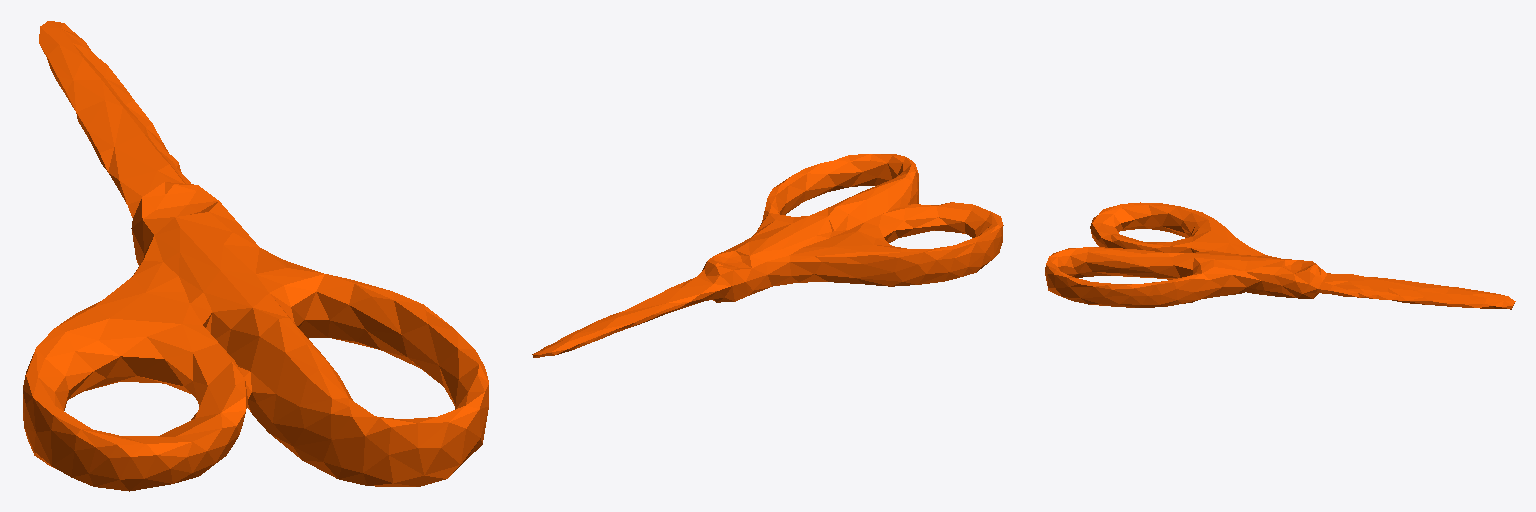
robot.urdf — 037_scissors:
<?xml version="1.0" ?>
<robot name="037_scissors">
   <material name="obj_color">
      <color rgba="1.0 0.423529411765 0.0392156862745 1.0"/>
   </material>
   <link name="top">
      <inertial>
         <origin rpy="3.018810183371814e-05 0.0001250608665715688 0.0001535135103798626" xyz="-0.002565661122281224 -0.004460871019042893 1.689275882520059e-05"/>
         <mass value="0.08626186684547055"/>
         <inertia ixx="0.0001160068860362054" ixy="-2.787791370943682e-05" ixz="-4.556739335207149e-07" iyy="3.924809970769981e-05" iyz="-5.508755592179248e-07" izz="0.0001535074930412443"/>
      </inertial>
      <visual>
         <origin rpy="0 0 0" xyz="0 0 0"/>
         <geometry>
            <mesh filename="top_watertight_tiny.stl" scale="1 1 1"/>
         </geometry>
         <material name="obj_color"/>
      </visual>
      <collision>
         <origin rpy="0 0 0" xyz="0 0 0"/>
         <geometry>
            <mesh filename="top_watertight_tiny.obj" scale="1 1 1"/>
         </geometry>
      </collision>
   </link>
   <link name="bottom">
      <inertial>
         <origin rpy="1.633333333199431e-08 1.633333333199431e-08 1.633333333362855e-08" xyz="0.3464080000000008 0.3464080000000008 0.3464080000000008"/>
         <mass value="0.0009800000000000017"/>
         <inertia ixx="1.633333333253906e-08" ixy="5.447480642029219e-19" ixz="5.447480642029219e-19" iyy="1.633333333253906e-08" iyz="5.447480642029219e-19" izz="1.633333333253906e-08"/>
      </inertial>
      <visual>
         <origin rpy="0 0 0" xyz="0 0 0"/>
         <geometry>
            <mesh filename="bottom_watertight_tiny.stl" scale="1 1 1"/>
         </geometry>
         <material name="obj_color"/>
      </visual>
   </link>
   <link name="world"/>
   <joint name="world_to_base" type="fixed">
      <origin xyz="0 0 0"/>
      <axis xyz="0 0 0"/>
      <parent link="world"/>
      <child link="bottom"/>
   </joint>
   <joint name="rotation" type="revolute">
      <origin xyz="0 0 0"/>
      <axis xyz="0 0 -1"/>
      <parent link="bottom"/>
      <child link="top"/>
      <dynamics damping="1.0" friction="1.0"/>
      <limit effort="0.1" velocity="0.1" lower="0" upper="0.001"/>
   </joint>
</robot>

--- What the picture shows (computed from the rendered views, not written in the file) ---
Views: 3 orthographic renders of the robot side by side, from view 1: azimuth 30°, elevation 25°; view 2: azimuth 150°, elevation 25°; view 3: azimuth 270°, elevation 25°.
Model 037_scissors with 3 links and 2 joints (1 revolute, 1 fixed), rooted at world, posed all joints at 0.
Links seen in each view (by area): view 1: top; view 2: top; view 3: top.
Boxes of the visible links, x1=… form: top: x1=23, y1=21, x2=488, y2=491; top: x1=532, y1=154, x2=1003, y2=357; top: x1=1045, y1=202, x2=1515, y2=309.
Size in the robot's own frame: 0.095 by 0.2003 by 0.0153 metres.
1 mesh visuals loaded from 2 distinct referenced files (1 binary STL); not drawn: 1 (reference not matched to a file when rendering).